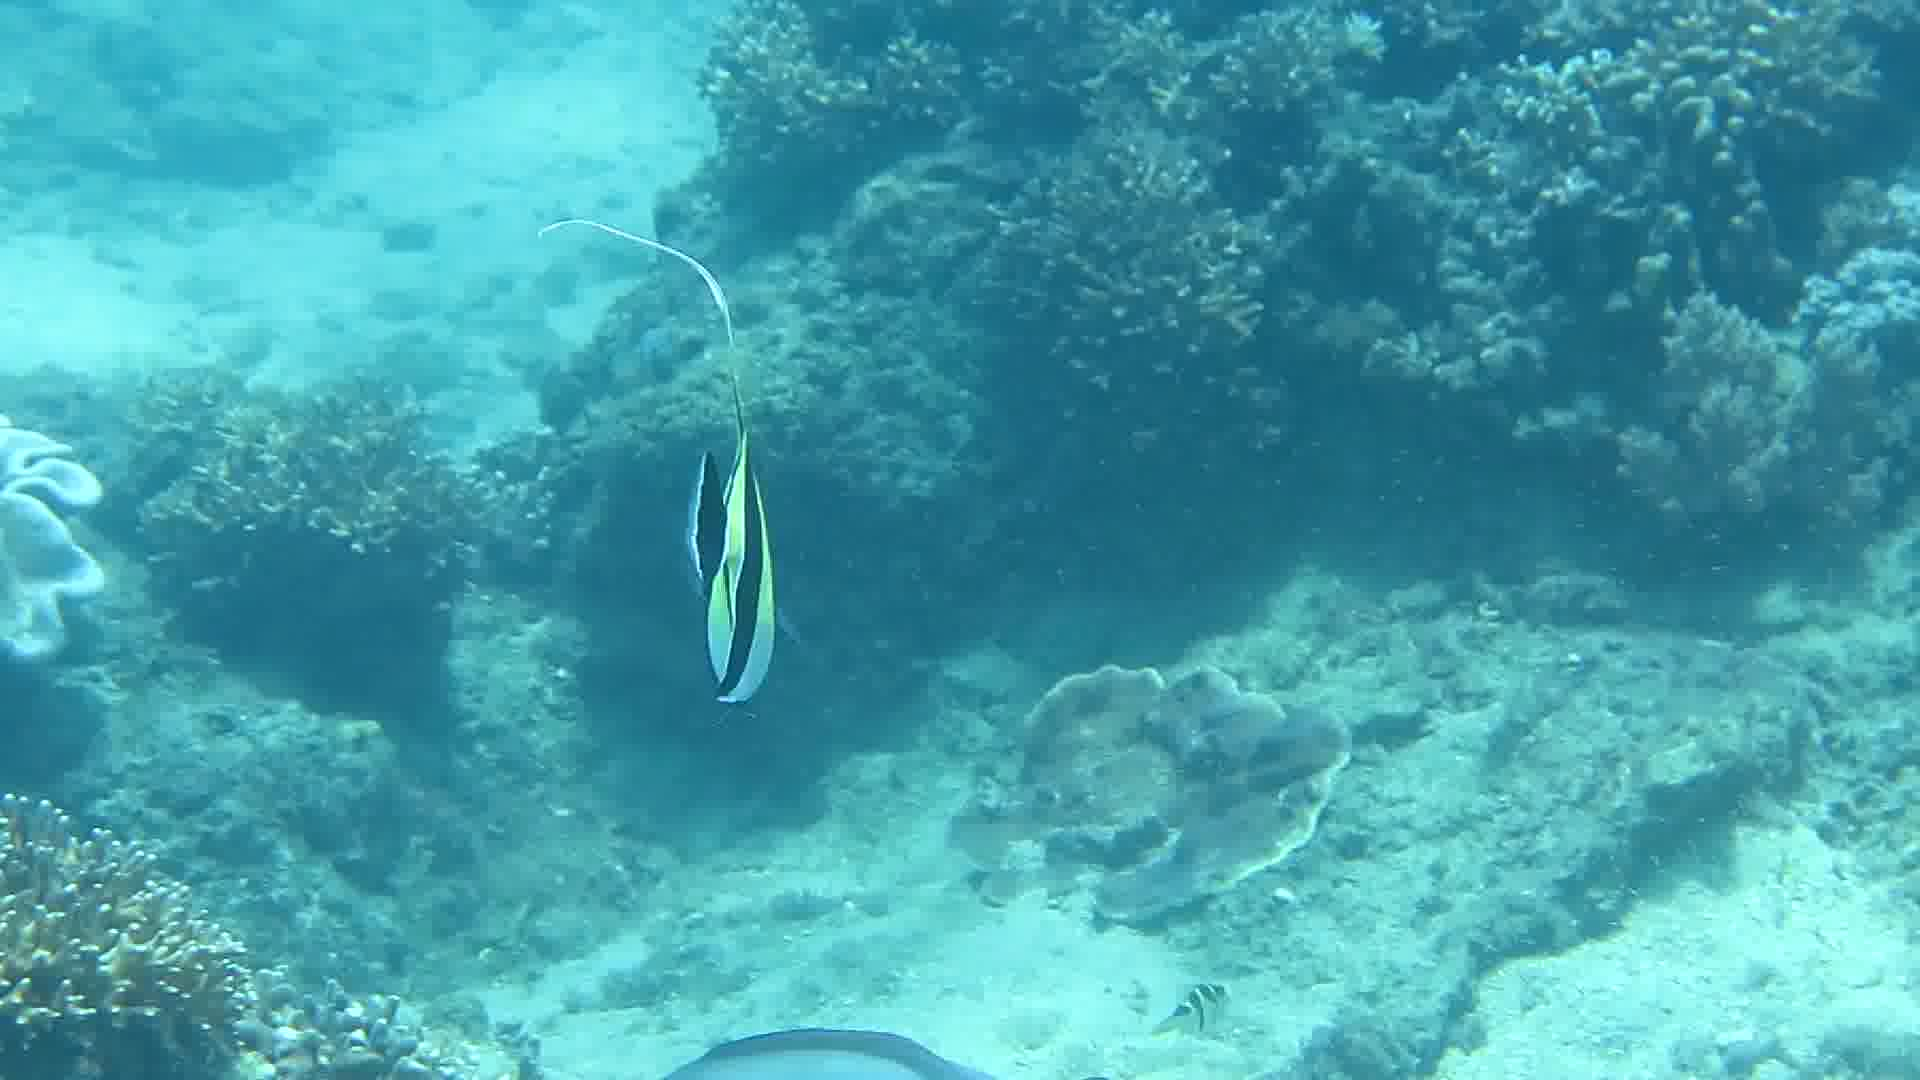Zanclus cornutus: (678, 398, 800, 723)
